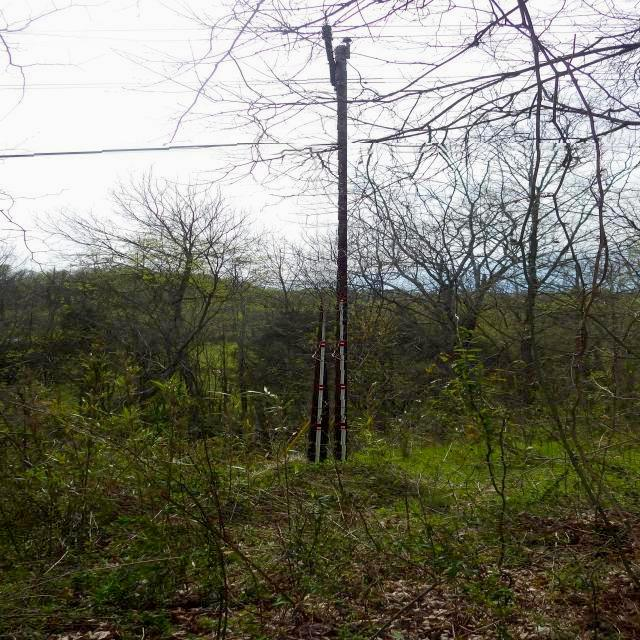crossarm: (323, 27, 336, 86)
pole: (328, 48, 347, 463)
wire: (0, 143, 312, 159), (347, 73, 640, 81), (0, 41, 72, 44), (1, 31, 36, 32)
